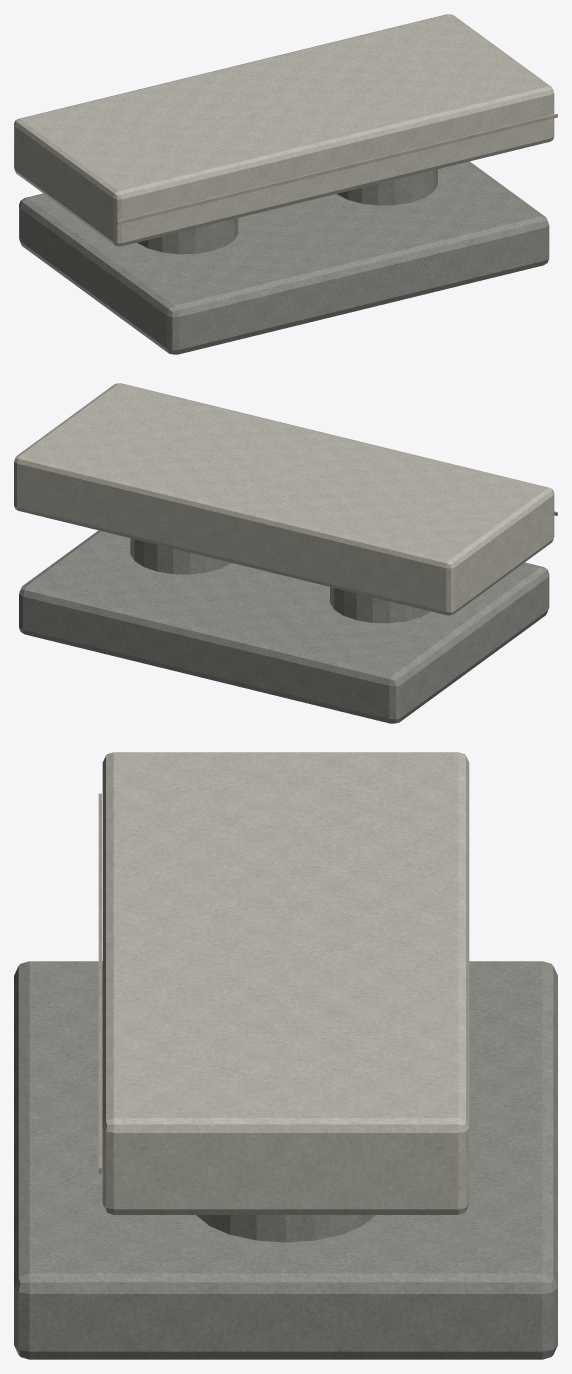
The model's file is BRG_SUPPORT_PIER_1x1_LOW_050.glb.
3 renders of one model, top to bottom at view 1: azimuth 30°, elevation 25°; view 2: azimuth 150°, elevation 25°; view 3: azimuth 270°, elevation 25°, orthographic. The views are drawn at different scales.
Visible parts, largest first — view 1: BRG_SUPPORT_PIER_1x1_LOW_050_Visual; view 2: BRG_SUPPORT_PIER_1x1_LOW_050_Visual; view 3: BRG_SUPPORT_PIER_1x1_LOW_050_Visual.
Boxes of the visible parts, left/top/right/bottom form: BRG_SUPPORT_PIER_1x1_LOW_050_Visual: left=14, top=14, right=557, bottom=354; BRG_SUPPORT_PIER_1x1_LOW_050_Visual: left=14, top=383, right=557, bottom=723; BRG_SUPPORT_PIER_1x1_LOW_050_Visual: left=14, top=752, right=557, bottom=1359.
Size of what is drawn, in the model's own units: 1.5 by 0.5 by 0.92.
Materials: 4 (3 with a texture image).
